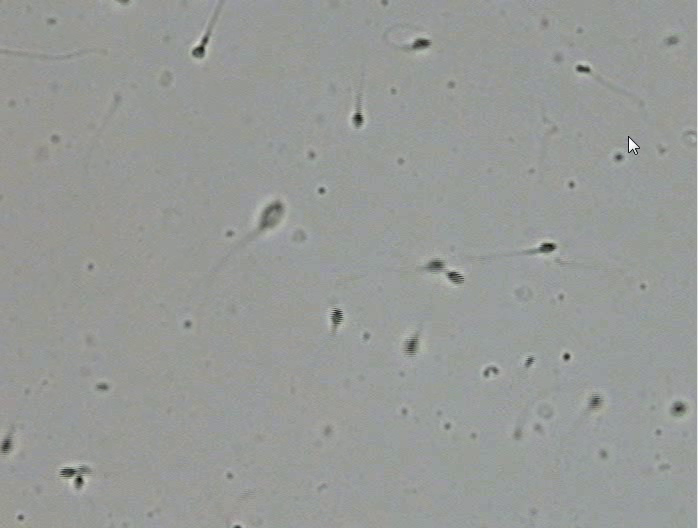S: (260, 201, 285, 229), (446, 270, 464, 285), (404, 337, 418, 356), (330, 307, 344, 325), (588, 394, 602, 409), (413, 38, 432, 49), (539, 242, 557, 253), (672, 402, 686, 416), (428, 260, 444, 272), (352, 112, 364, 128), (59, 467, 76, 478), (192, 45, 205, 59), (1, 438, 12, 454), (73, 475, 84, 489), (576, 64, 591, 73)
